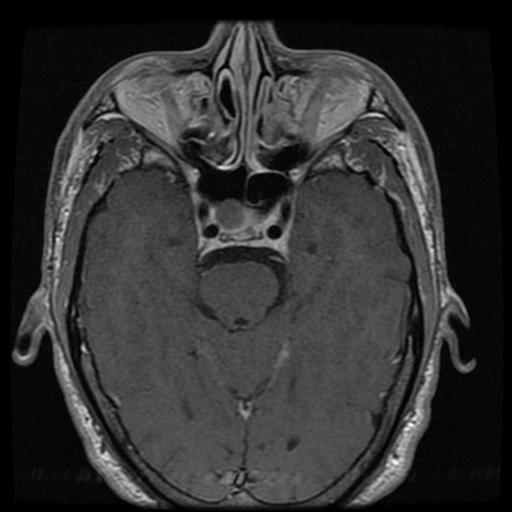Tumour-Pituitary: (173, 196, 317, 261)
